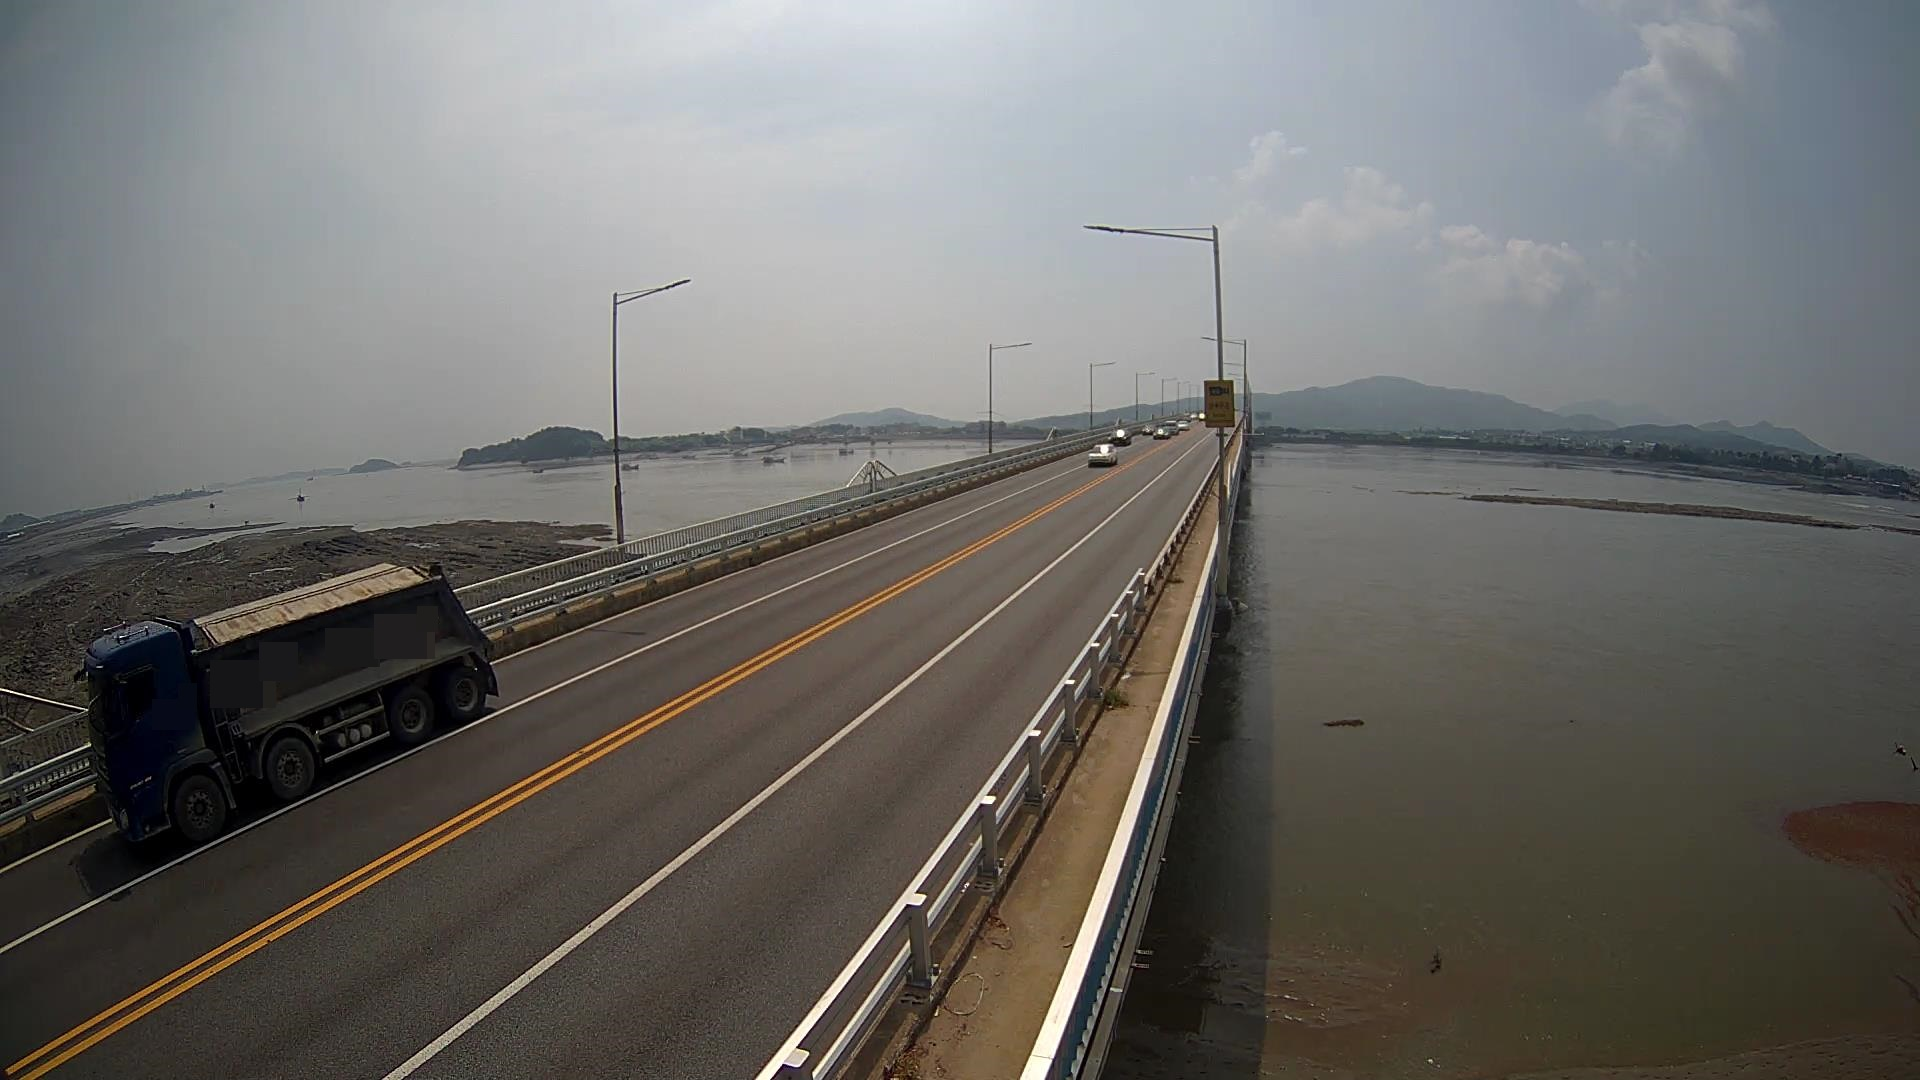정상차량: (74, 562, 500, 844)
